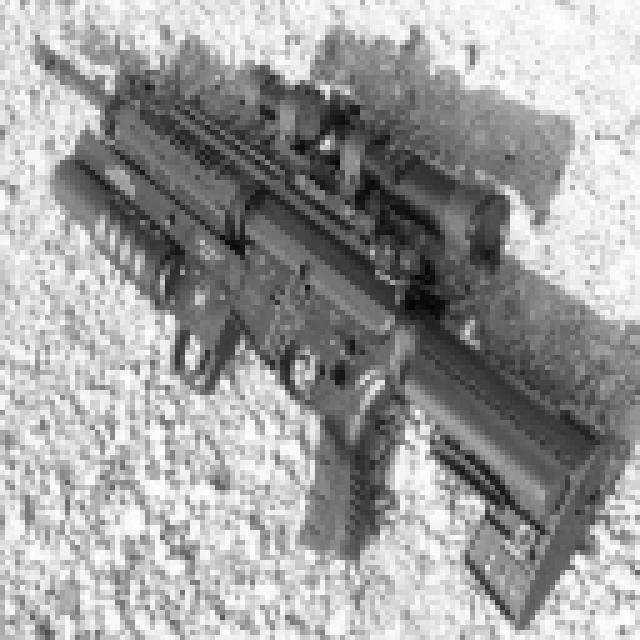Rifle: (60, 145, 640, 640), (74, 161, 640, 619), (60, 0, 72, 153)
